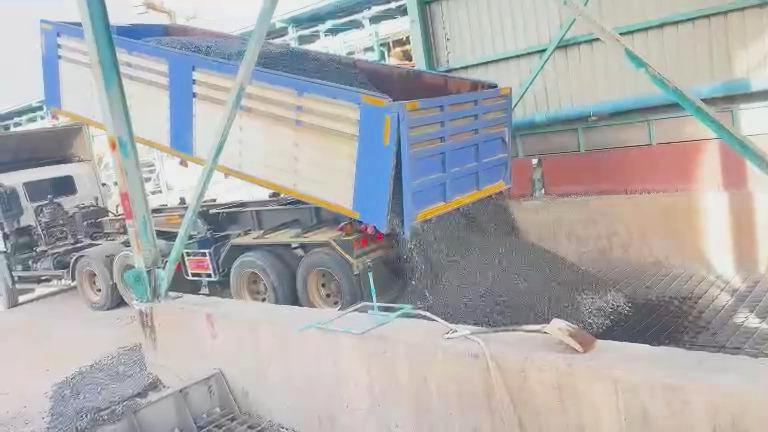gravel: (403, 196, 630, 333), (46, 345, 162, 431), (257, 42, 379, 91), (143, 36, 246, 61)
